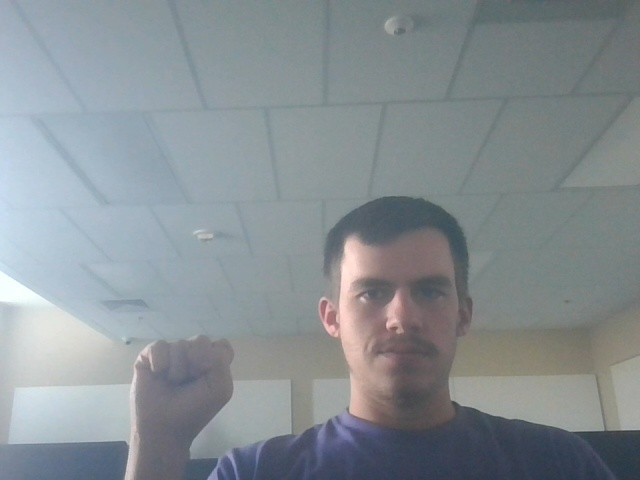yes: (120, 324, 253, 436)
